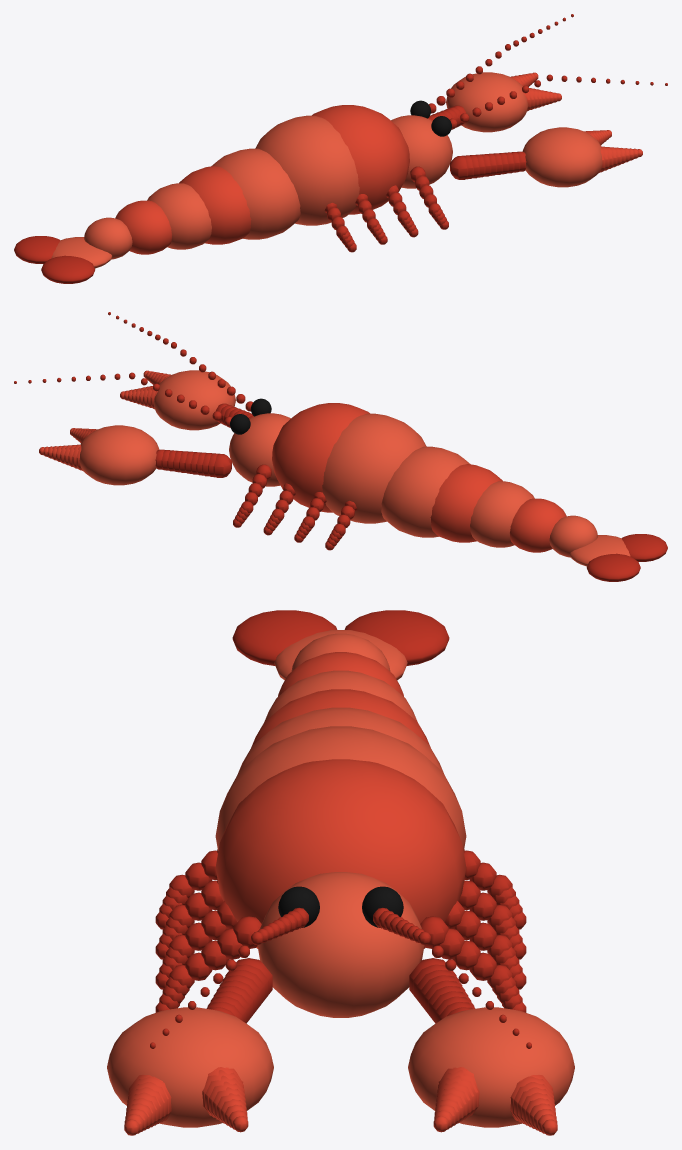
The model's file is lobster.glb.
The picture shows the model from 3 angles, top to bottom: view 1: azimuth 30°, elevation 25°; view 2: azimuth 150°, elevation 25°; view 3: azimuth 270°, elevation 25°; orthographic projection. The views are drawn at different scales.
Visible parts, largest first — view 1: lobster; view 2: lobster; view 3: lobster.
Part boxes in pixels (box(x1,y1,x2,y2)): lobster: box(14, 14, 667, 283); lobster: box(14, 312, 667, 581); lobster: box(107, 610, 574, 1135).
Bounding box in the file's own units: 3.25 × 0.5645 × 1.12.
